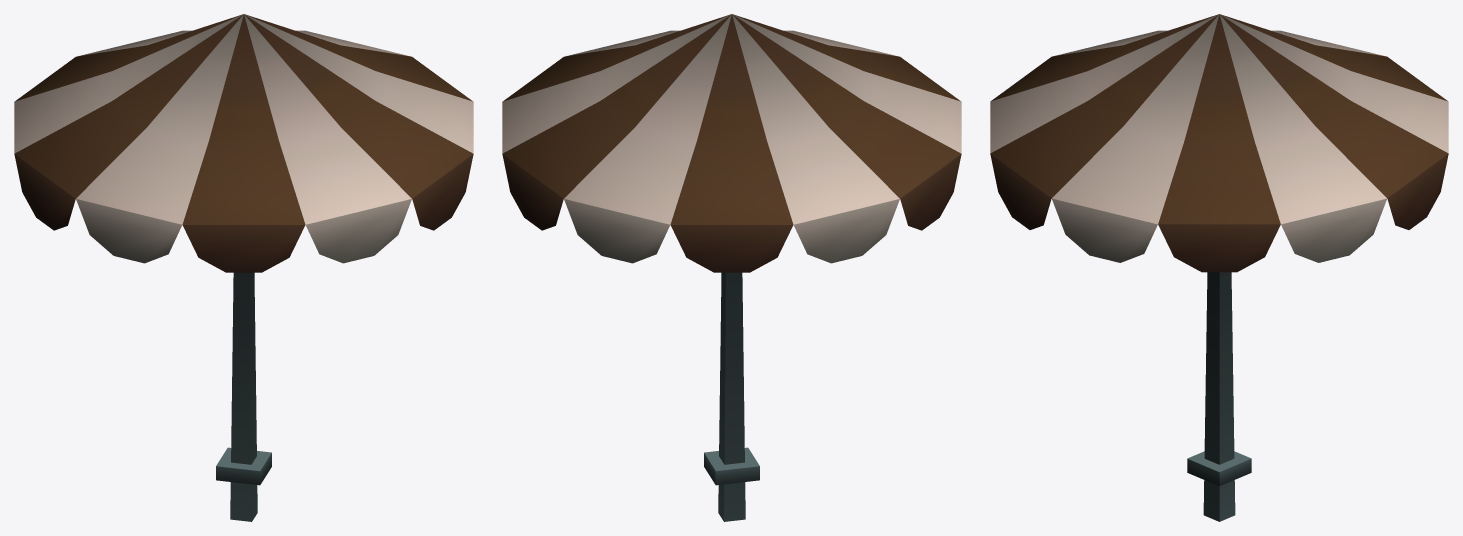
File: Umbrella_2B.fbx
3 views of the same model, side by side, from view 1: azimuth 30°, elevation 25°; view 2: azimuth 150°, elevation 25°; view 3: azimuth 270°, elevation 25° (orthographic).
Parts seen in each view (by area): view 1: Umbrella_2B; view 2: Umbrella_2B; view 3: Umbrella_2B.
Boxes of the visible parts, x1,y1,x2,y2 form: Umbrella_2B: [14, 14, 473, 521]; Umbrella_2B: [502, 14, 961, 521]; Umbrella_2B: [990, 14, 1448, 521].
Bounding box in the file's own units: 366 × 442 × 366.
